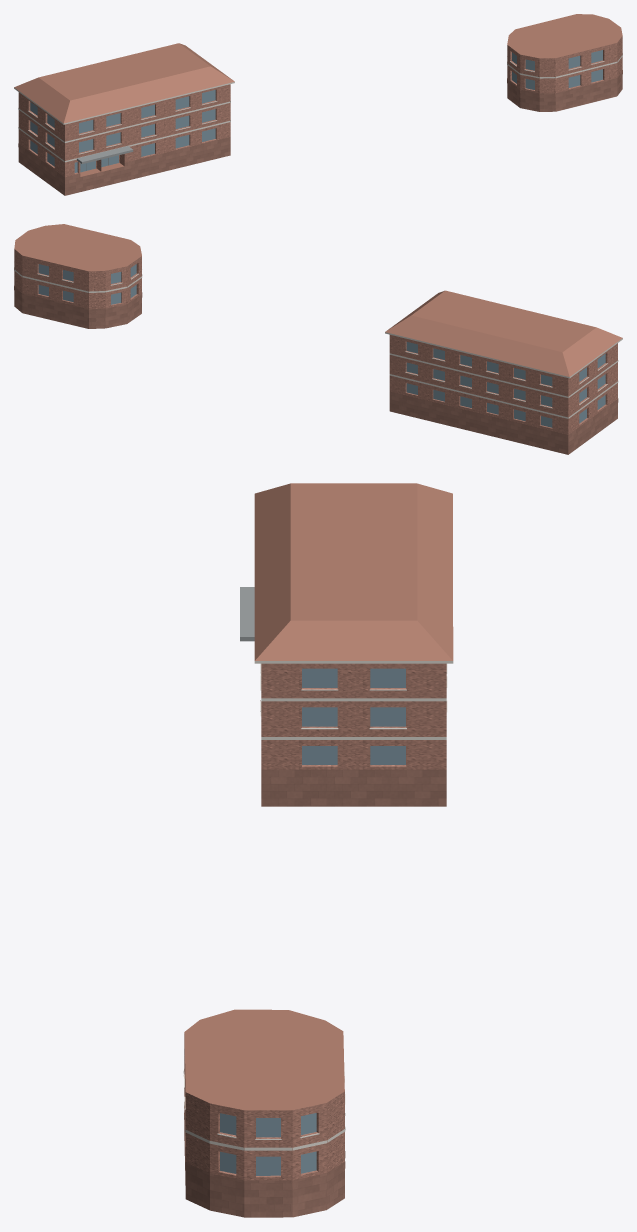
The picture shows the model from 3 angles, top to bottom: view 1: azimuth 30°, elevation 25°; view 2: azimuth 150°, elevation 25°; view 3: azimuth 270°, elevation 25°; orthographic projection. The views are drawn at different scales.
Parts seen in each view (by area): view 1: staffHousingN15__roof, staffHousingN15__wall, staffHousingN15__base, staffHousingN15__glass, staffHousingN15__trim, staffHousingN15__canopy; view 2: staffHousingN15__wall, staffHousingN15__roof, staffHousingN15__base, staffHousingN15__glass, staffHousingN15__trim; view 3: staffHousingN15__roof, staffHousingN15__wall, staffHousingN15__base, staffHousingN15__glass, staffHousingN15__trim.
Boxes of the visible parts, box(x1,y1,x2,y2) form: staffHousingN15__roof: box(14, 14, 622, 176); staffHousingN15__wall: box(18, 36, 622, 180); staffHousingN15__base: box(18, 70, 622, 195); staffHousingN15__glass: box(30, 50, 602, 172); staffHousingN15__trim: box(14, 53, 622, 162); staffHousingN15__canopy: box(77, 146, 133, 164); staffHousingN15__wall: box(14, 249, 617, 438); staffHousingN15__roof: box(14, 224, 622, 376); staffHousingN15__base: box(14, 286, 618, 454); staffHousingN15__glass: box(38, 264, 605, 427); staffHousingN15__trim: box(14, 267, 622, 418); staffHousingN15__roof: box(184, 483, 453, 1110); staffHousingN15__wall: box(184, 663, 446, 1186); staffHousingN15__base: box(184, 700, 446, 1217); staffHousingN15__glass: box(220, 668, 405, 1175); staffHousingN15__trim: box(183, 661, 453, 1150).
Bounding box in the file's own units: 96.56 × 17.24 × 20.28.
Materials: 8 (2 with a texture image).
